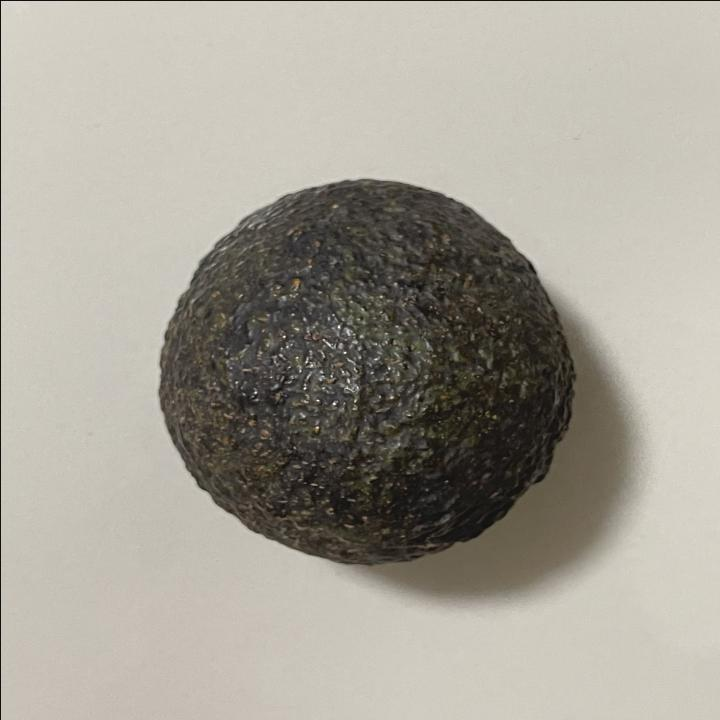Level1: (136, 163, 594, 581)
